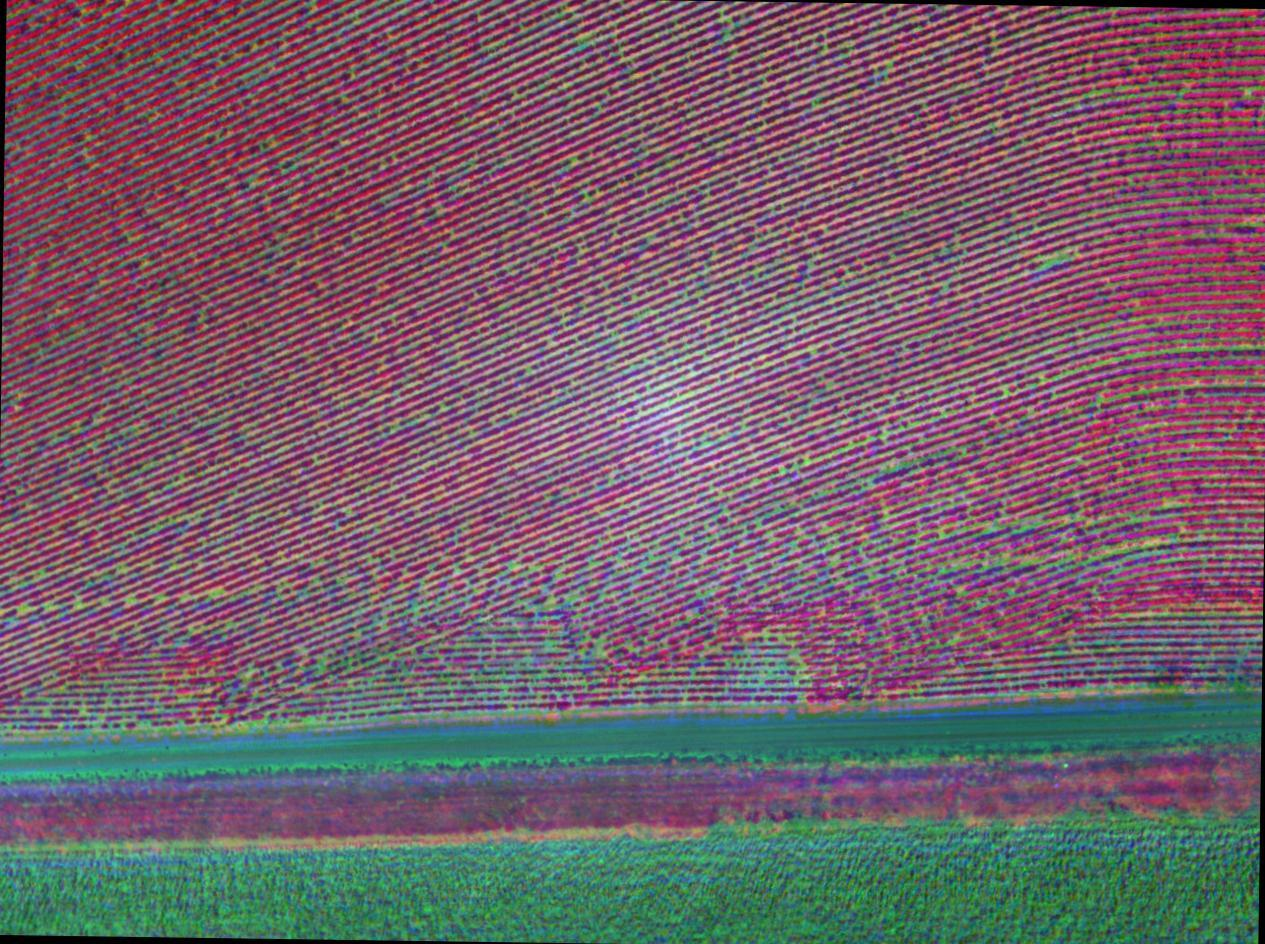dc: (1055, 254, 1061, 260), (213, 591, 219, 596), (1005, 390, 1009, 395), (442, 406, 446, 411), (128, 599, 133, 603), (1167, 504, 1171, 508), (649, 238, 652, 242), (1098, 398, 1101, 402), (992, 526, 995, 529)
